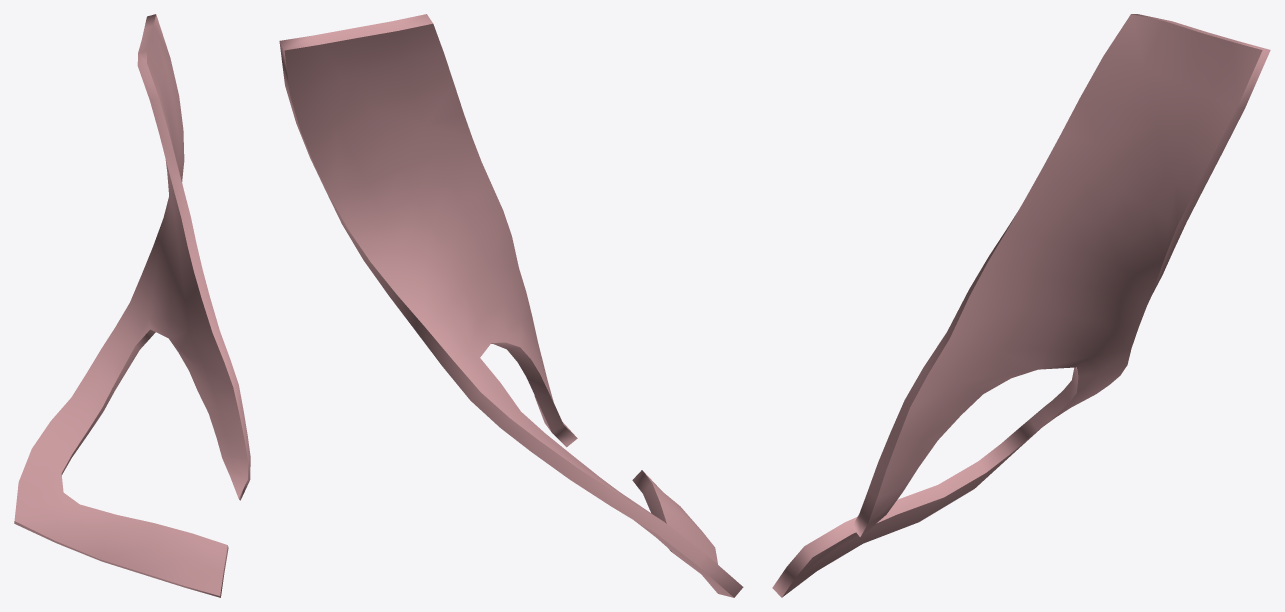
The picture shows the model from 3 angles, left to right: view 1: azimuth 30°, elevation 25°; view 2: azimuth 150°, elevation 25°; view 3: azimuth 270°, elevation 25°; orthographic projection. The views are drawn at different scales.
Visible parts, largest first — view 1: ZA_09b07dbc7b79cc00; view 2: ZA_09b07dbc7b79cc00; view 3: ZA_09b07dbc7b79cc00.
Boxes of the visible parts, x1=… form: ZA_09b07dbc7b79cc00: x1=14, y1=14, x2=250, y2=597; ZA_09b07dbc7b79cc00: x1=279, y1=14, x2=743, y2=597; ZA_09b07dbc7b79cc00: x1=772, y1=14, x2=1270, y2=597.
Size of the model in its own units: 0.0833 by 0.1465 by 0.1067.
